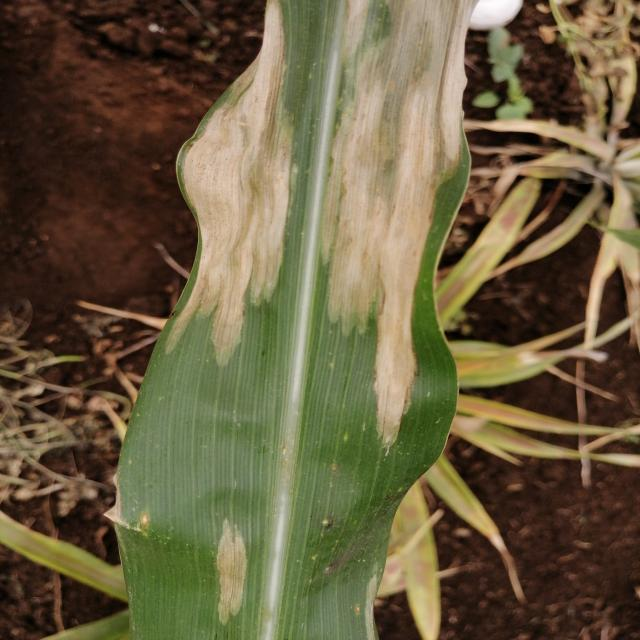Corn_Leaf_Blight: (120, 0, 478, 640)
